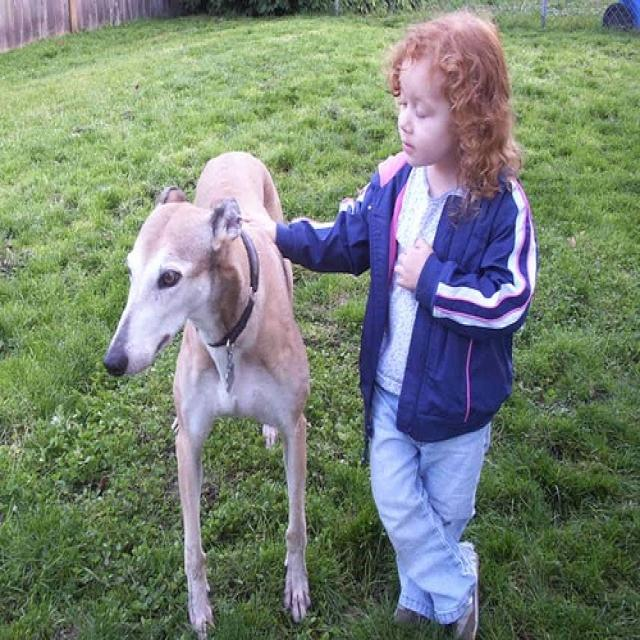dog: (104, 150, 312, 638)
